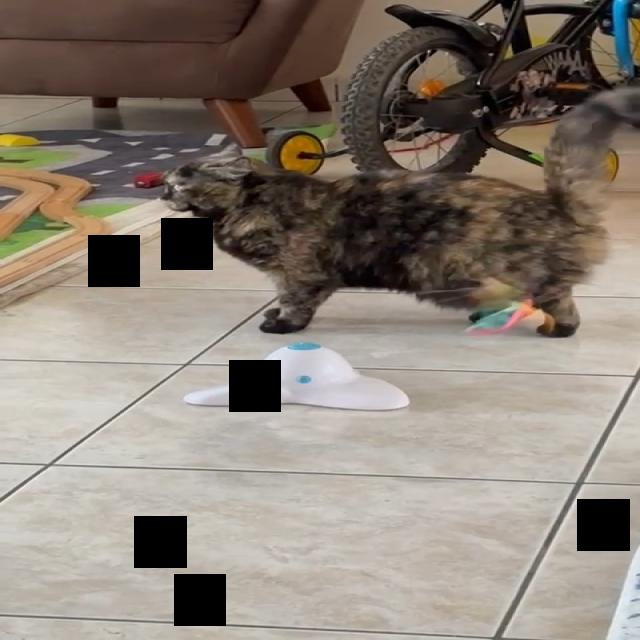authorized: (156, 81, 635, 337)
